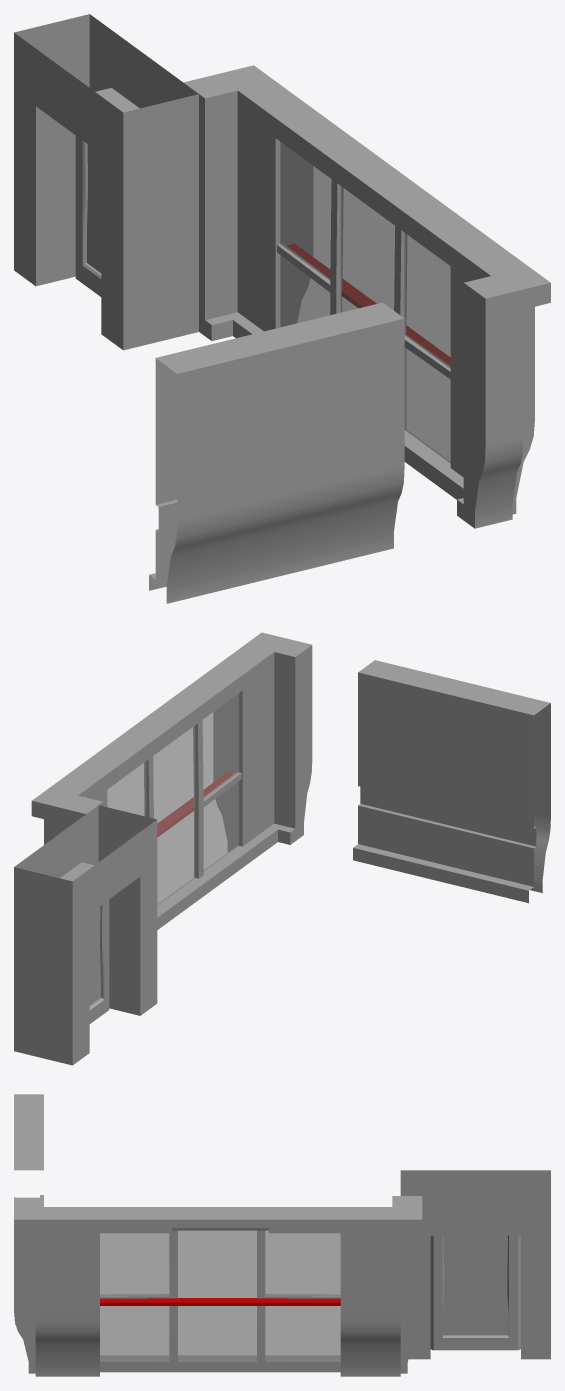
Rendered from Set_wall_observation.fbx.
3 renders of one model, top to bottom at view 1: azimuth 30°, elevation 25°; view 2: azimuth 150°, elevation 25°; view 3: azimuth 270°, elevation 25°, orthographic. The views are drawn at different scales.
Visible parts, largest first — view 1: Entrance_To_box, Wall_interior_obsevation3x1, Wall_JAil_Observation, pCube40, Wall_interior_obsevation2x1, polySurface73, polySurface67, Wall_interior_obsevation1x1, Door_Up_BoxPrison, light; view 2: Entrance_To_box, Wall_interior_obsevation3x1, Wall_JAil_Observation, pCube40, Wall_interior_obsevation2x1, polySurface73, Wall_interior_obsevation1x1, polySurface67, Door_Up_BoxPrison, light; view 3: pCube40, Wall_JAil_Observation, Entrance_To_box, Door_Up_BoxPrison, polySurface73, polySurface67, light, Wall_interior_obsevation3x1, Wall_interior_obsevation2x1, Wall_interior_obsevation1x1.
Part boxes in pixels (x1,y1,x2,y2): Entrance_To_box: [14, 14, 198, 350]; Wall_interior_obsevation3x1: [149, 330, 290, 603]; Wall_JAil_Observation: [242, 93, 509, 499]; pCube40: [280, 142, 450, 462]; Wall_interior_obsevation2x1: [269, 312, 366, 575]; polySurface73: [457, 253, 550, 528]; polySurface67: [183, 65, 290, 340]; Wall_interior_obsevation1x1: [345, 302, 404, 557]; Door_Up_BoxPrison: [75, 135, 101, 296]; light: [287, 244, 450, 365]; Entrance_To_box: [14, 805, 157, 1065]; Wall_interior_obsevation3x1: [441, 681, 550, 903]; Wall_JAil_Observation: [61, 655, 268, 929]; pCube40: [107, 693, 238, 904]; Wall_interior_obsevation2x1: [382, 667, 462, 881]; polySurface73: [230, 632, 312, 848]; Wall_interior_obsevation1x1: [353, 660, 403, 867]; polySurface67: [31, 779, 103, 844]; Door_Up_BoxPrison: [89, 899, 109, 1023]; light: [157, 772, 232, 836]; pCube40: [100, 1230, 340, 1360]; Wall_JAil_Observation: [70, 1207, 370, 1376]; Entrance_To_box: [400, 1170, 550, 1359]; Door_Up_BoxPrison: [430, 1235, 520, 1350]; polySurface73: [14, 1197, 69, 1376]; polySurface67: [370, 1196, 422, 1376]; light: [100, 1298, 340, 1305]; Wall_interior_obsevation3x1: [14, 1094, 43, 1197]; Wall_interior_obsevation2x1: [14, 1132, 43, 1157]; Wall_interior_obsevation1x1: [14, 1157, 43, 1170].
Bounding box in the file's own units: 986 × 600 × 1786.
